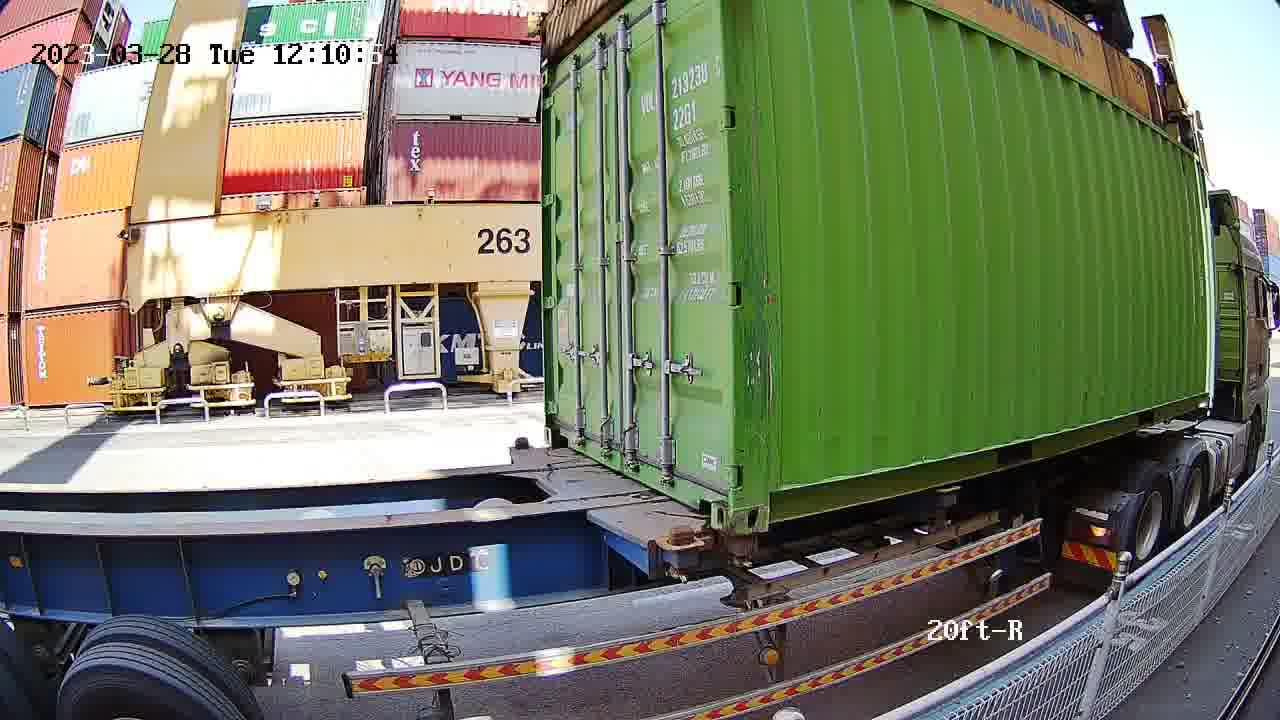Chassis: (510, 447, 703, 578)
Cone: (658, 524, 703, 583), (723, 531, 762, 571), (511, 434, 532, 452)
Hole_L: (734, 467, 798, 533), (543, 396, 577, 456)
Hole_R: (685, 456, 733, 536)
Tire: (1127, 466, 1175, 585), (1172, 452, 1213, 543)
